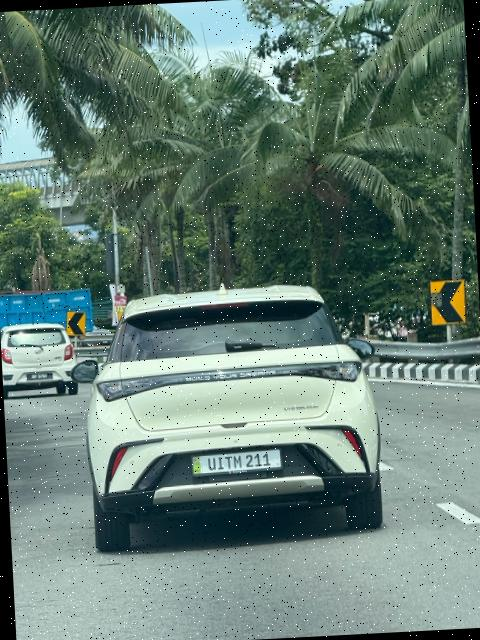License_Plate: (191, 449, 284, 479)
car: (68, 277, 388, 555), (1, 321, 81, 400)
